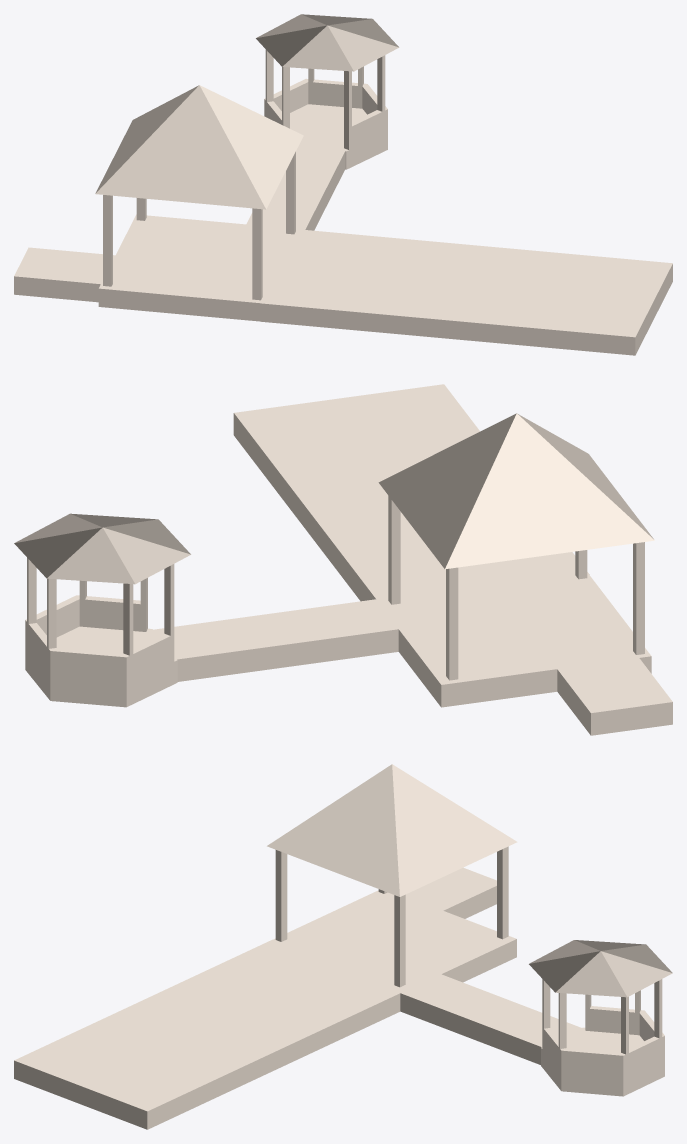
File: Beach.gltf
3 views of the same model, one above another, from view 1: azimuth 30°, elevation 25°; view 2: azimuth 150°, elevation 25°; view 3: azimuth 270°, elevation 25° (orthographic). The views are drawn at different scales.
Parts seen in each view (by area): view 1: Mesh17 Group7 Swim1 Model, Mesh3 Group2 Swim1 Model, Mesh9 Group3 Swim1 Model, Mesh15 Group6 Swim1 Model, Mesh11 Group4 Swim1 Model, Mesh1 Group1 Swim1 Model, Mesh13 Group5 Swim1 Model; view 2: Mesh17 Group7 Swim1 Model, Mesh3 Group2 Swim1 Model, Mesh9 Group3 Swim1 Model, Mesh15 Group6 Swim1 Model, Mesh13 Group5 Swim1 Model, Mesh11 Group4 Swim1 Model, Mesh1 Group1 Swim1 Model; view 3: Mesh17 Group7 Swim1 Model, Mesh3 Group2 Swim1 Model, Mesh9 Group3 Swim1 Model, Mesh15 Group6 Swim1 Model, Mesh13 Group5 Swim1 Model, Mesh11 Group4 Swim1 Model, Mesh1 Group1 Swim1 Model.
Boxes of the visible parts, left/top/right/bottom form: Mesh17 Group7 Swim1 Model: left=260, top=230, right=672, bottom=355; Mesh3 Group2 Swim1 Model: left=95, top=85, right=303, bottom=300; Mesh9 Group3 Swim1 Model: left=98, top=214, right=302, bottom=321; Mesh15 Group6 Swim1 Model: left=264, top=49, right=387, bottom=169; Mesh11 Group4 Swim1 Model: left=256, top=14, right=399, bottom=71; Mesh1 Group1 Swim1 Model: left=14, top=247, right=115, bottom=302; Mesh13 Group5 Swim1 Model: left=246, top=147, right=345, bottom=230; Mesh17 Group7 Swim1 Model: left=233, top=384, right=589, bottom=602; Mesh3 Group2 Swim1 Model: left=378, top=413, right=654, bottom=680; Mesh9 Group3 Swim1 Model: left=379, top=572, right=651, bottom=707; Mesh15 Group6 Swim1 Model: left=25, top=558, right=177, bottom=707; Mesh13 Group5 Swim1 Model: left=153, top=599, right=398, bottom=681; Mesh11 Group4 Swim1 Model: left=14, top=513, right=190, bottom=584; Mesh1 Group1 Swim1 Model: left=557, top=658, right=672, bottom=735; Mesh17 Group7 Swim1 Model: left=14, top=940, right=401, bottom=1129; Mesh3 Group2 Swim1 Model: left=267, top=764, right=517, bottom=987; Mesh9 Group3 Swim1 Model: left=269, top=890, right=516, bottom=992; Mesh15 Group6 Swim1 Model: left=541, top=979, right=664, bottom=1096; Mesh13 Group5 Swim1 Model: left=400, top=974, right=581, bottom=1064; Mesh11 Group4 Swim1 Model: left=529, top=940, right=672, bottom=997; Mesh1 Group1 Swim1 Model: left=405, top=867, right=496, bottom=918.
Bounding box in the file's own units: 1634 × 594 × 1831.
